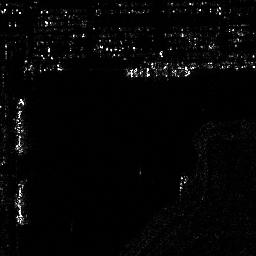ship: (126, 63, 190, 79), (13, 98, 26, 153), (14, 182, 26, 225)
